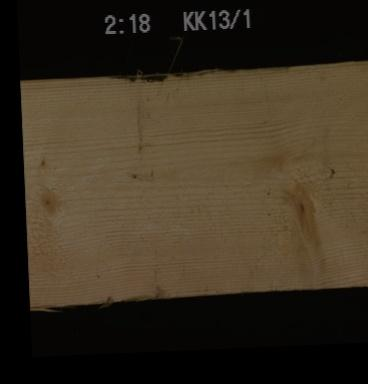small_knot: (31, 149, 53, 170)
sound_knot: (32, 181, 58, 220)
